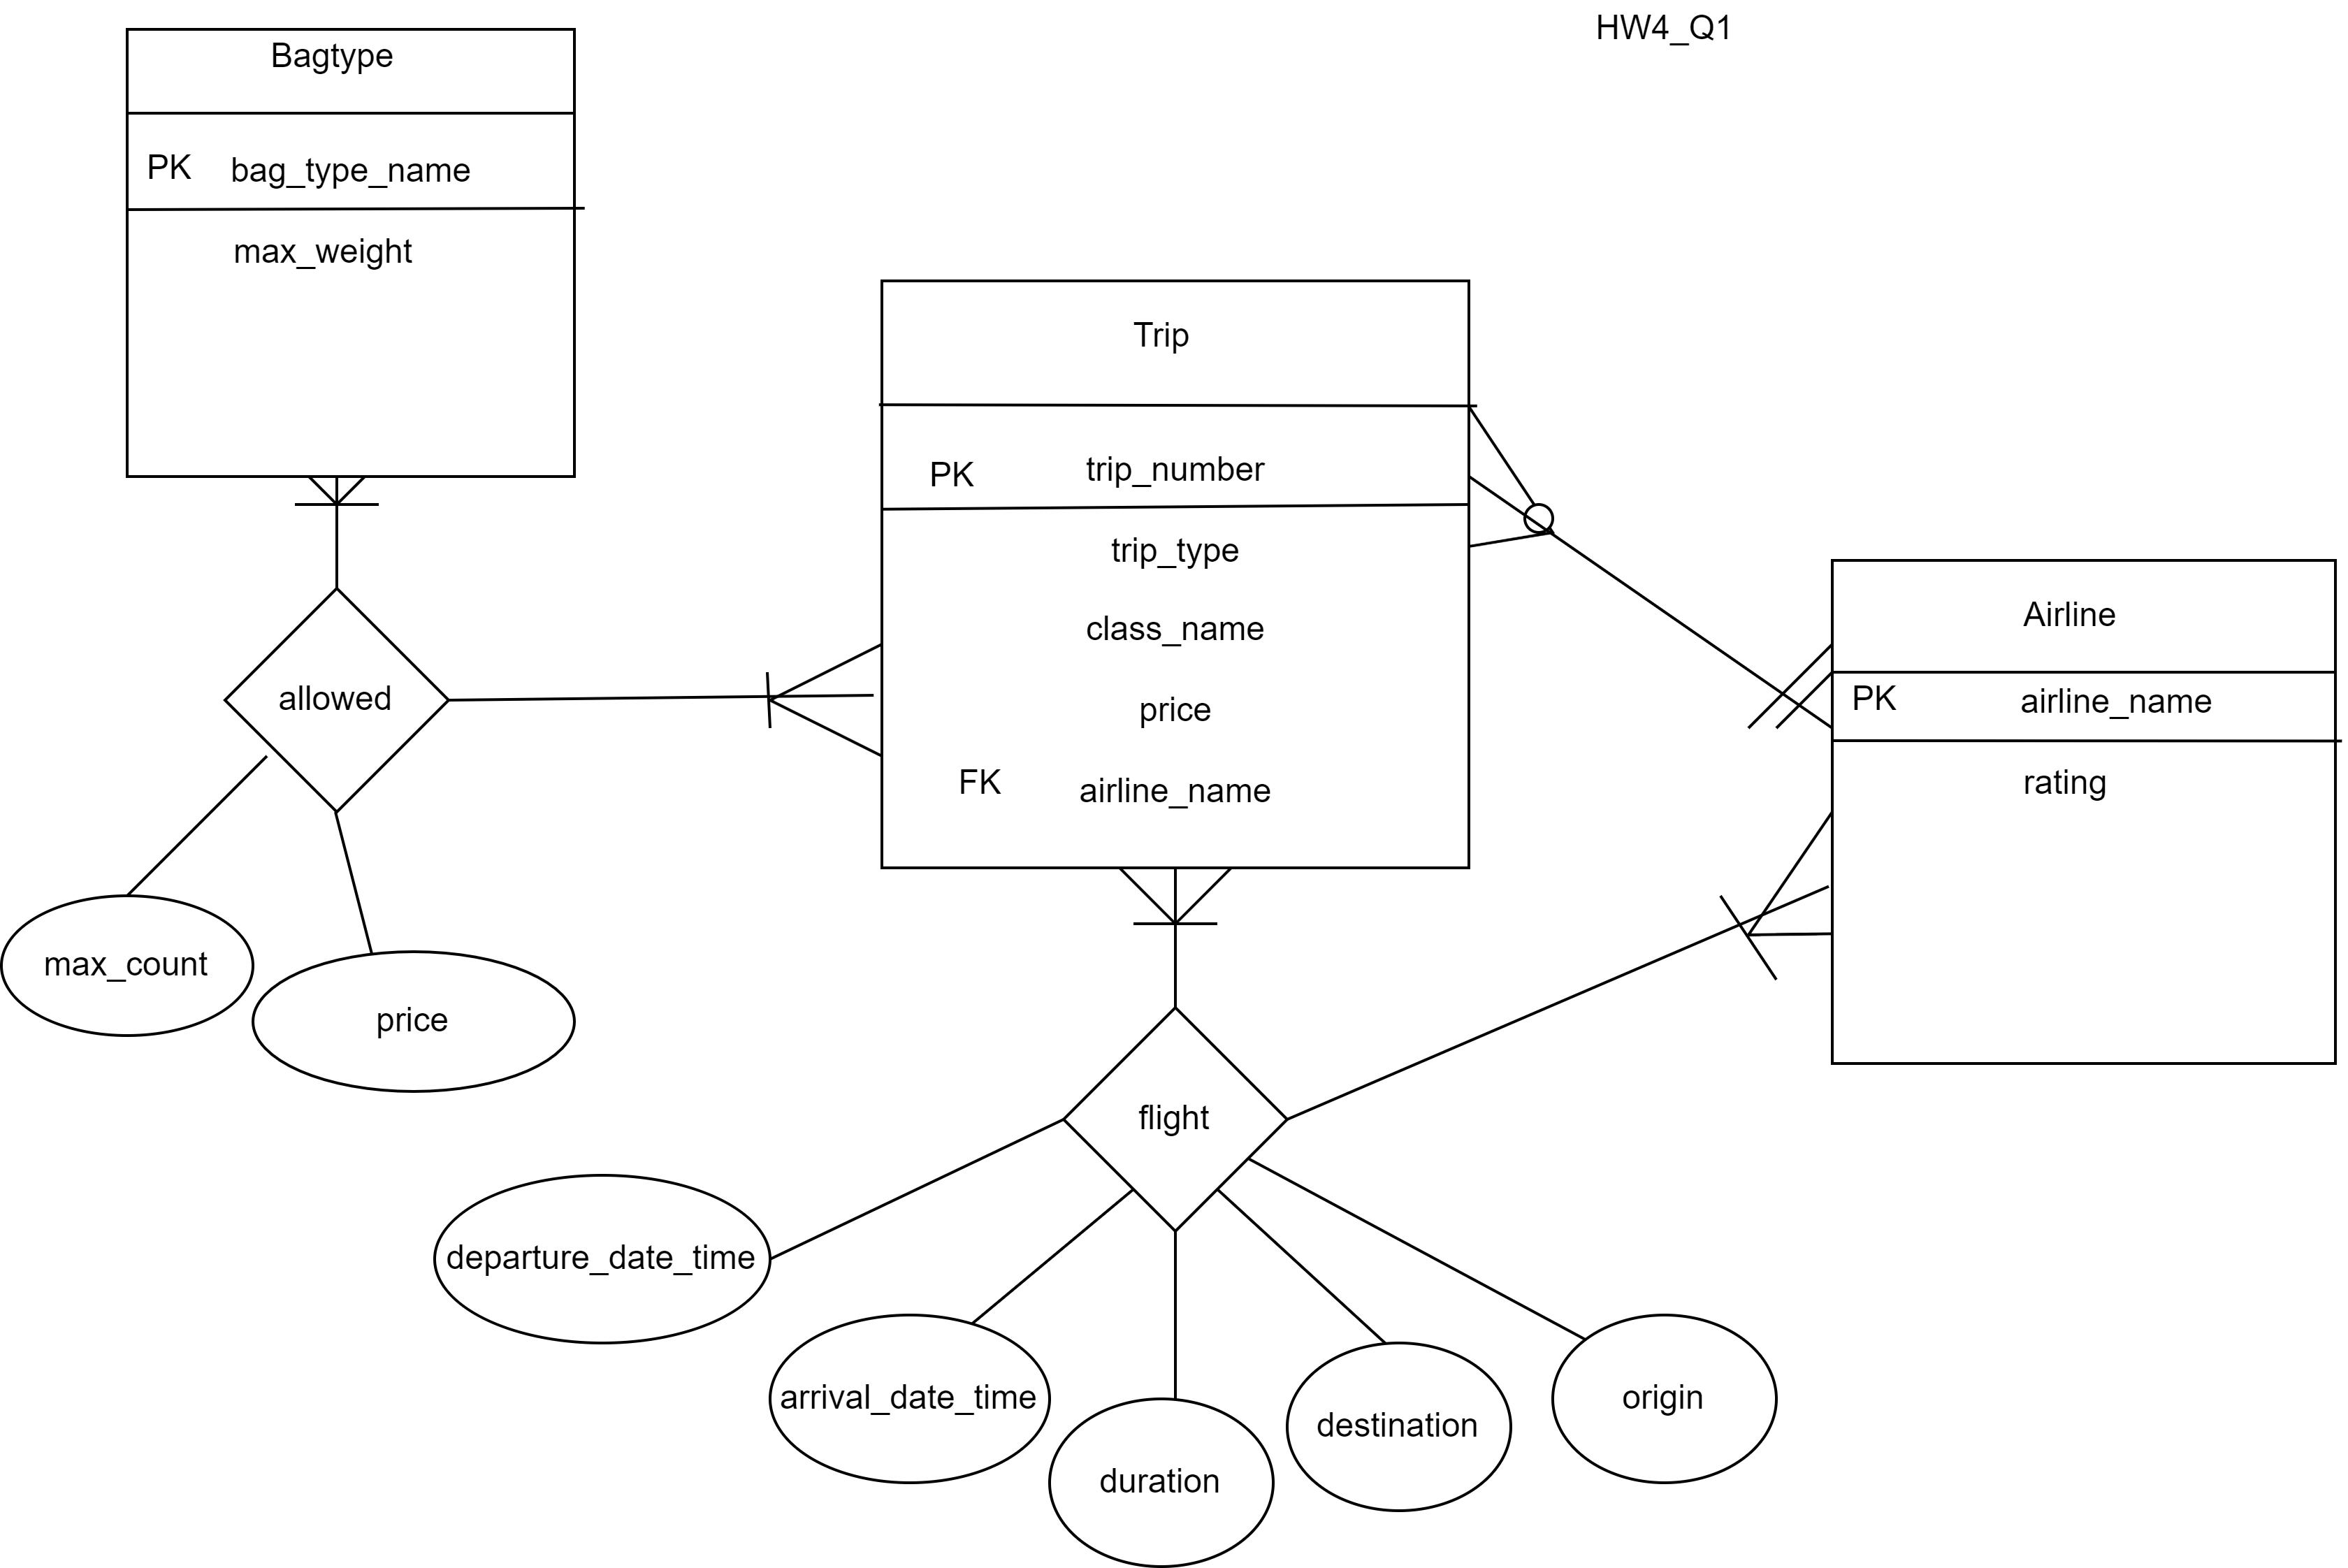attribute: (430, 1172, 768, 1347), (765, 1312, 1052, 1482), (248, 947, 581, 1092), (1286, 1339, 1515, 1512), (1554, 1316, 1776, 1487), (1053, 1402, 1277, 1568), (0, 894, 252, 1039)
entity: (875, 276, 1478, 875), (1828, 548, 2348, 1071), (121, 28, 577, 483)
relationship: (229, 586, 453, 815), (1064, 1010, 1289, 1234)
